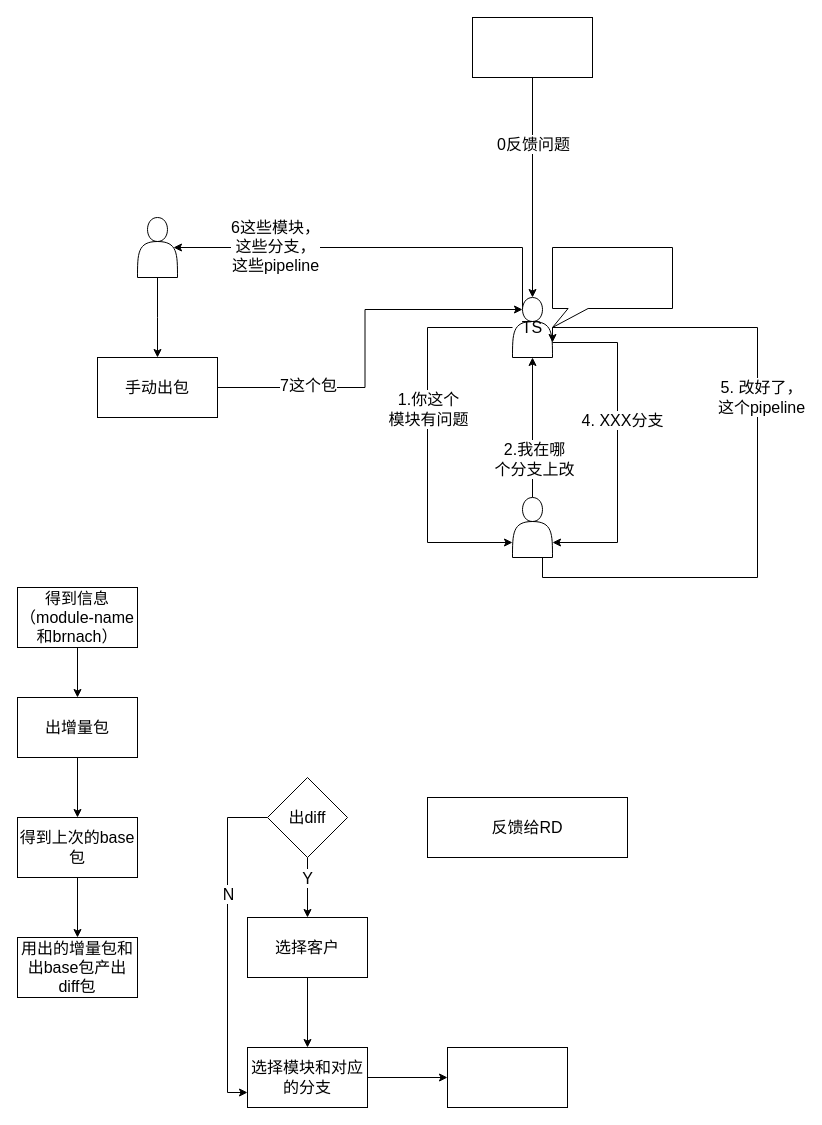
This 822x1125 diagram has some shape labels left out. Each missing label, with the centre of its shape:
3我得去查查A场，上次是基于哪个分支搞的: (x=612, y=287)
A场有模块有bug: (x=532, y=47)
devops: (x=157, y=247)
RD: (x=532, y=527)
等待出包（增量包+diff包）: (x=507, y=1077)
